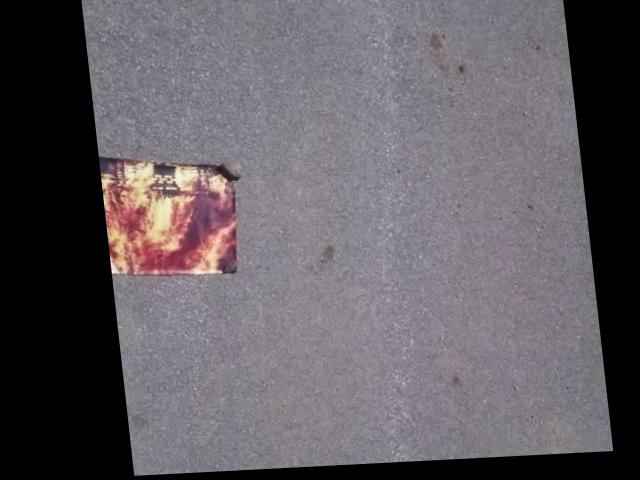fire-poster: (95, 148, 246, 284)
